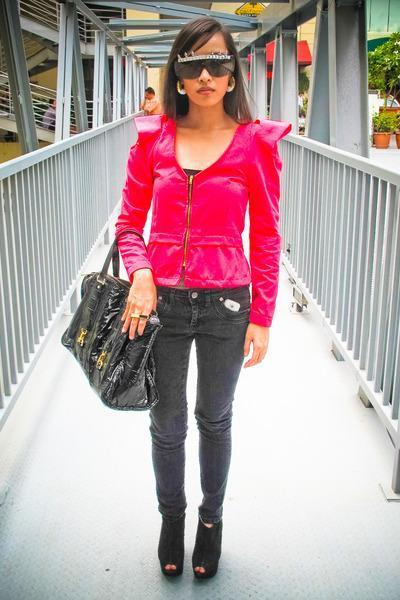bag: (61, 252, 165, 413)
jacket: (84, 112, 291, 327)
pants: (144, 283, 252, 526)
shoe: (158, 508, 221, 584)
sunglass: (190, 59, 224, 78)
